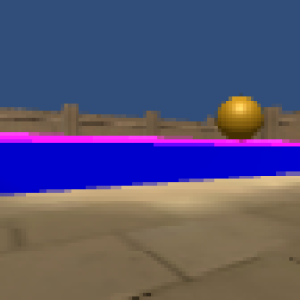goodGoalMulti: (212, 95, 266, 139)
platform: (1, 145, 300, 193)
ramp: (1, 131, 298, 145)
